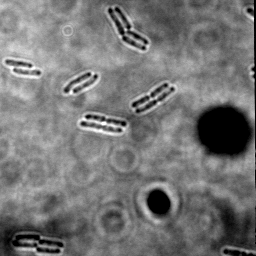Dividing: (134, 85, 175, 114), (130, 81, 169, 109), (83, 112, 128, 128), (79, 120, 124, 135)
Microcolony: (107, 6, 149, 51), (11, 231, 66, 256)
Rod: (62, 71, 92, 95), (71, 73, 99, 96), (4, 58, 33, 70), (11, 67, 43, 77)
